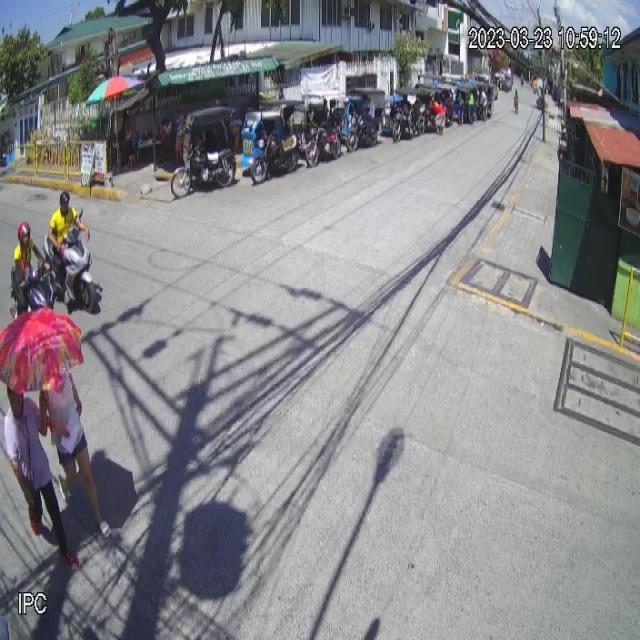Motorcycle: (43, 207, 97, 314), (10, 260, 55, 328)
Tricycle: (169, 100, 241, 199)
